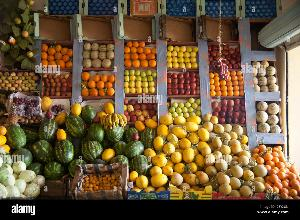apple: (206, 100, 248, 128), (120, 98, 162, 124), (163, 98, 202, 124), (206, 42, 244, 68), (38, 72, 76, 98), (164, 44, 200, 70), (162, 72, 204, 94), (121, 69, 159, 93)
apricot: (80, 171, 122, 193)
melon: (136, 118, 215, 194), (214, 128, 266, 198), (248, 58, 280, 100), (76, 40, 118, 70), (254, 99, 286, 137)
orange: (256, 144, 300, 204), (205, 69, 247, 99), (77, 68, 118, 98), (34, 44, 74, 70), (124, 40, 157, 68)
watermelon: (15, 124, 142, 169)
